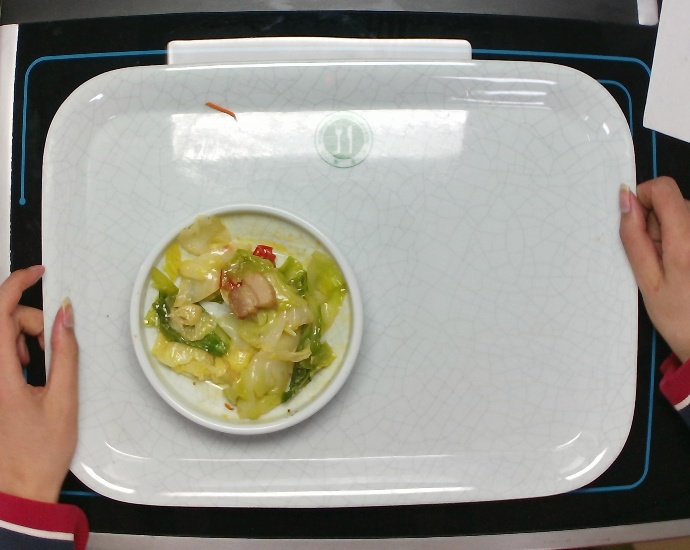JYsf-Xiao_Yuan_Pan: (124, 199, 366, 438)
